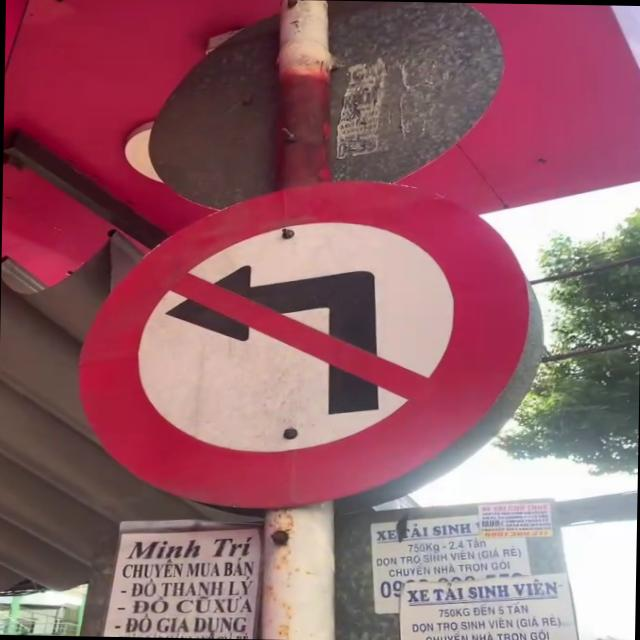Cam_Re_Trai: (73, 173, 535, 513)
